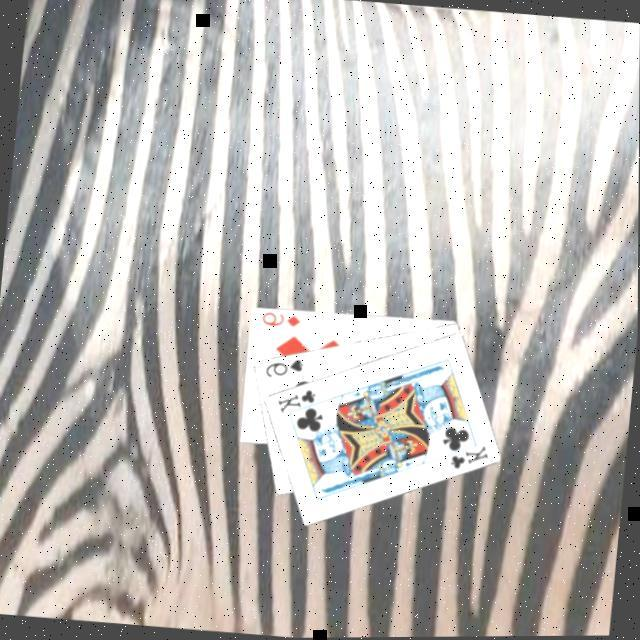6S: (262, 351, 308, 381)
9D: (259, 307, 304, 329)
KC: (439, 436, 494, 473), (275, 382, 328, 418)
